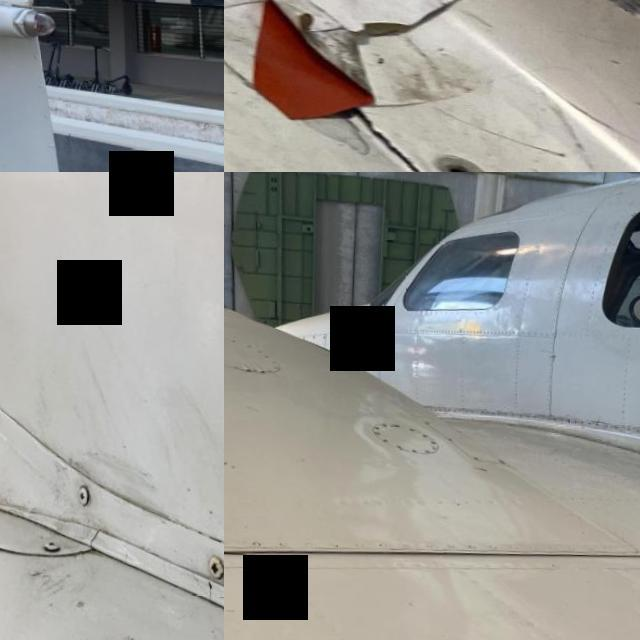Crack: (486, 0, 640, 40), (85, 522, 171, 586), (183, 547, 224, 640), (530, 408, 558, 414)
Dent: (633, 599, 640, 615)
Missing_Fastener: (440, 153, 476, 172)
